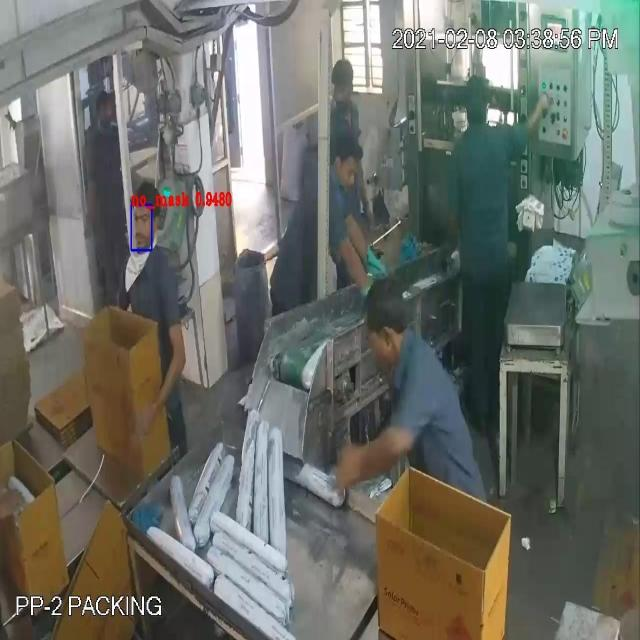Gloves: (50, 70, 374, 444)
